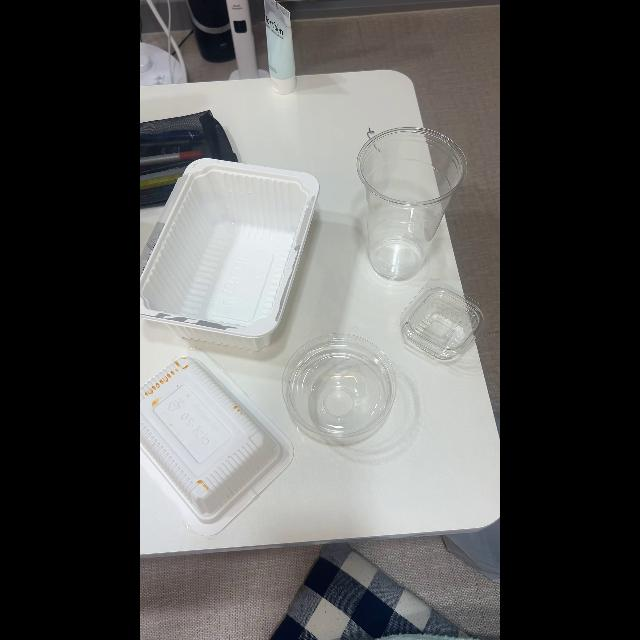clean: (140, 160, 320, 340), (358, 129, 466, 279), (283, 336, 397, 439), (400, 282, 486, 358)
dirty: (140, 357, 280, 517)
